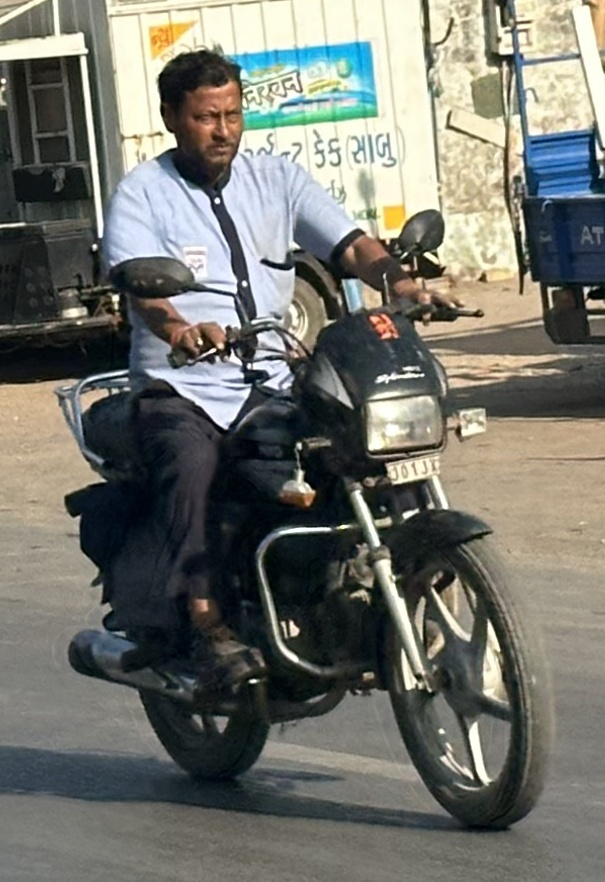BikeWithRider: (43, 38, 566, 839)
NoHelmet: (146, 41, 256, 182)
